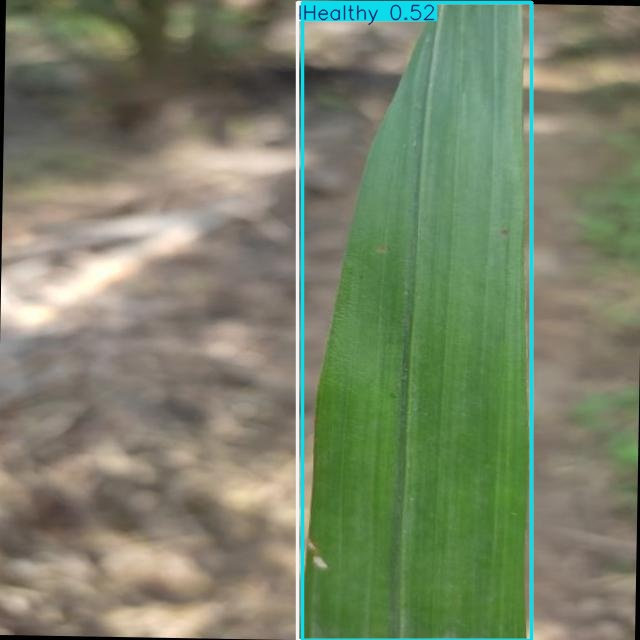Healthy: (302, 2, 532, 640)
Kalium: (298, 2, 531, 640)
